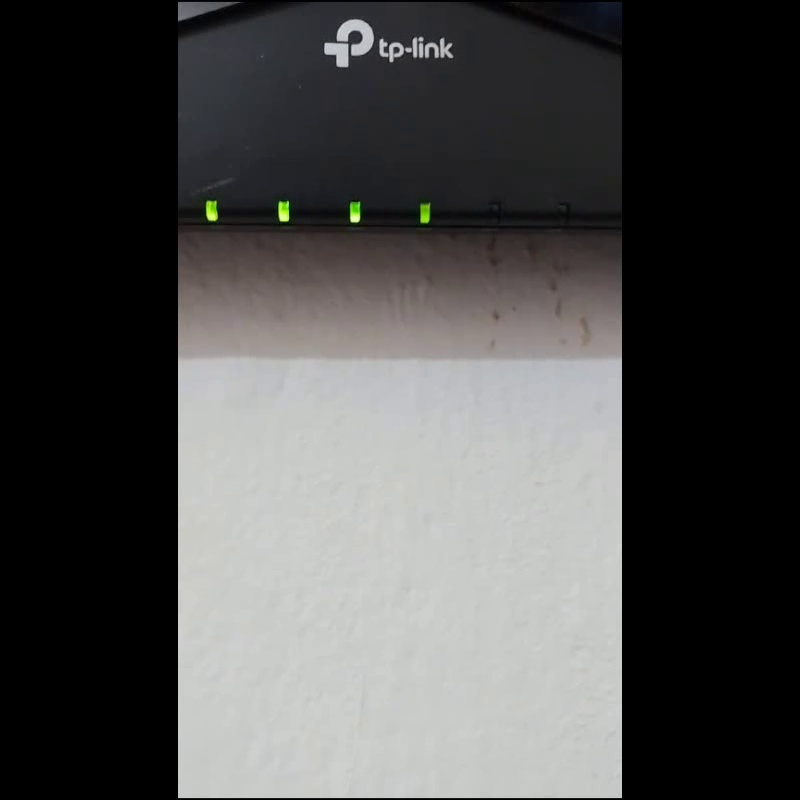off: (489, 202, 500, 222), (557, 202, 567, 222)
on_green: (418, 202, 430, 225), (204, 199, 217, 220), (277, 200, 289, 221), (349, 201, 360, 223)
